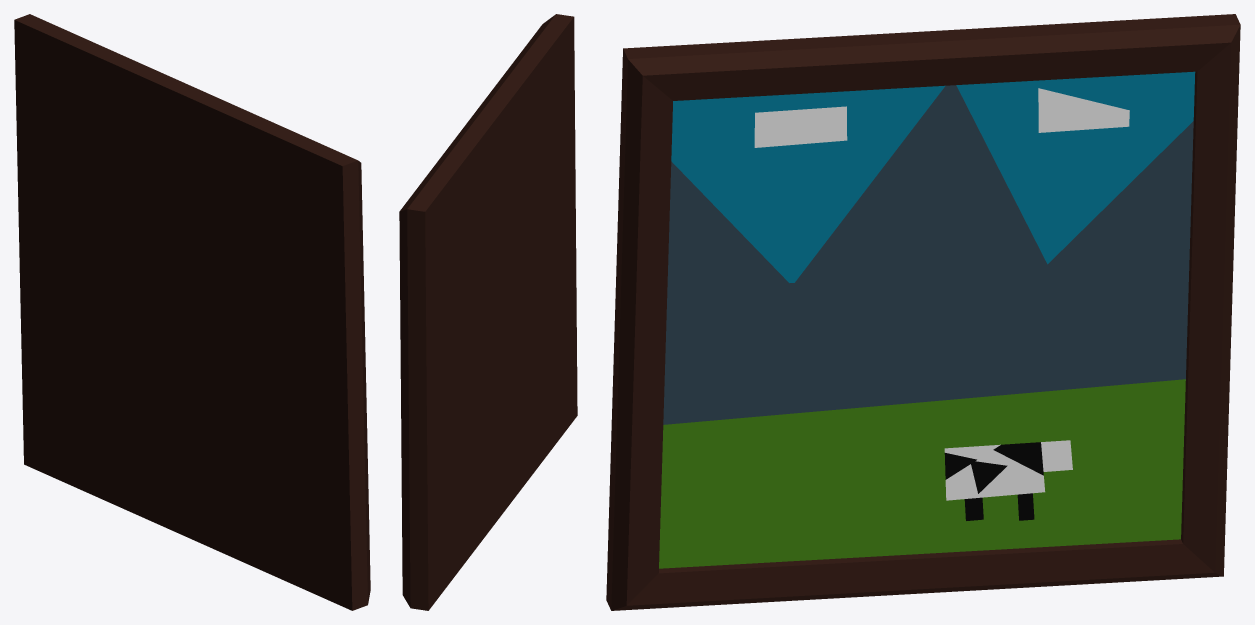
The picture shows the model from 3 angles, left to right: view 1: azimuth 30°, elevation 25°; view 2: azimuth 150°, elevation 25°; view 3: azimuth 270°, elevation 25°; orthographic projection. The views are drawn at different scales.
Visible parts, largest first — view 1: group1788839726; view 2: group1788839726; view 3: group1788839726.
Part boxes in pixels (x1=…): group1788839726: x1=14, y1=14, x2=370, y2=610; group1788839726: x1=399, y1=14, x2=577, y2=610; group1788839726: x1=606, y1=14, x2=1240, y2=610.
Bounding box in the file's own units: 0.144 × 0.5549 × 0.5634.
